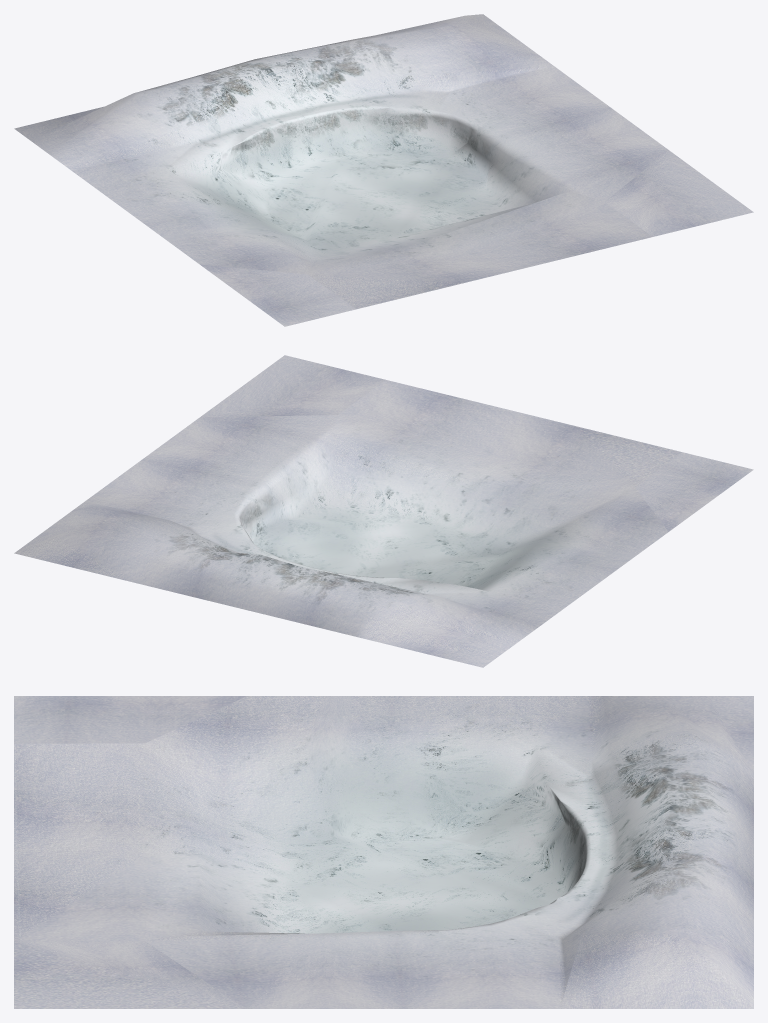
The model's file is Snow_mounth1.fbx.
3 renders of one model, top to bottom at view 1: azimuth 30°, elevation 25°; view 2: azimuth 150°, elevation 25°; view 3: azimuth 270°, elevation 25°, orthographic. The views are drawn at different scales.
Visible parts, largest first — view 1: Snow_mounth; view 2: Snow_mounth; view 3: Snow_mounth.
Boxes of the visible parts, x1,y1,x2,y2 form: Snow_mounth: [14, 14, 753, 326]; Snow_mounth: [14, 355, 753, 667]; Snow_mounth: [14, 696, 753, 1008].
Bounding box in the file's own units: 42314 × 5510 × 42304.
